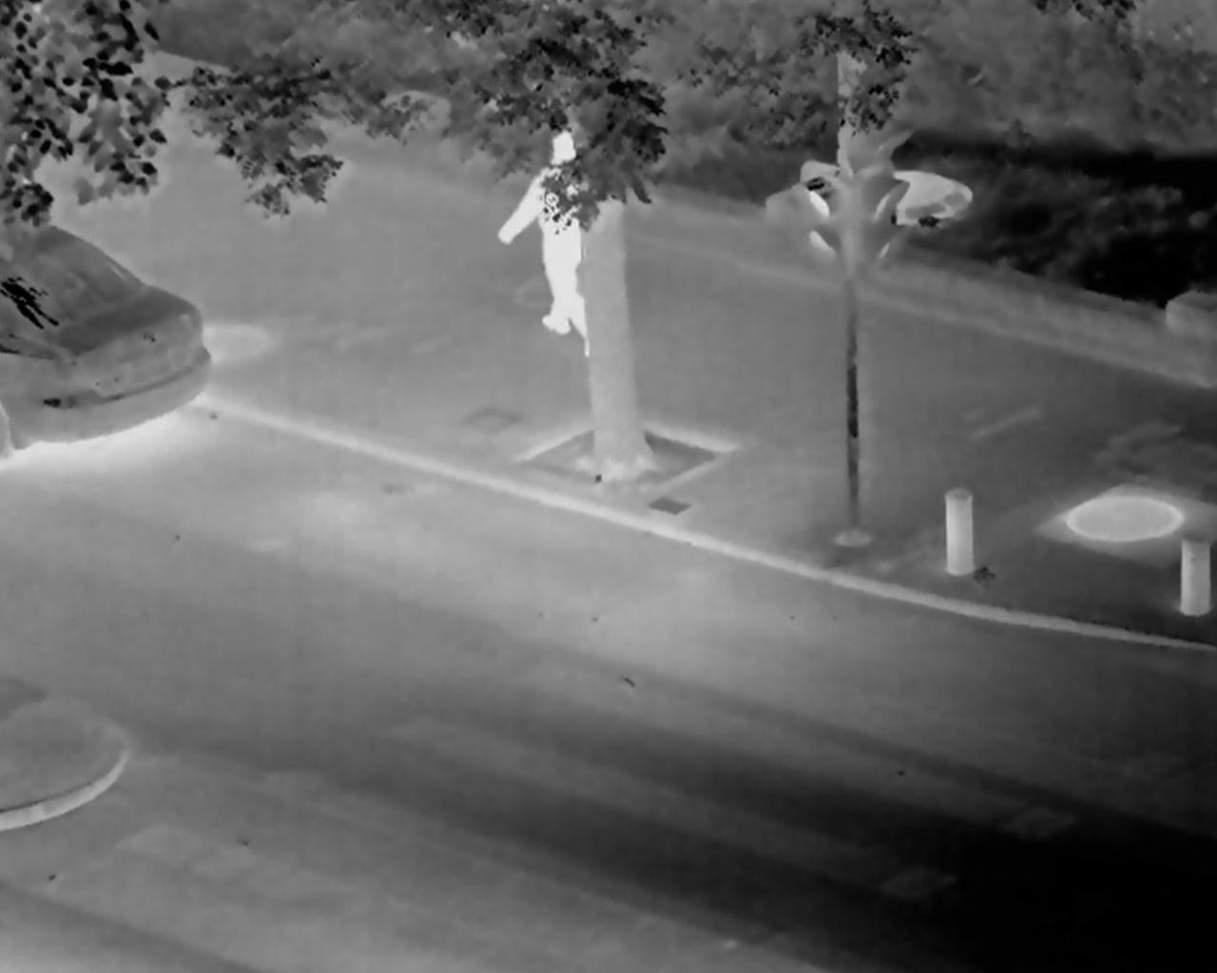person: (505, 138, 587, 346)
